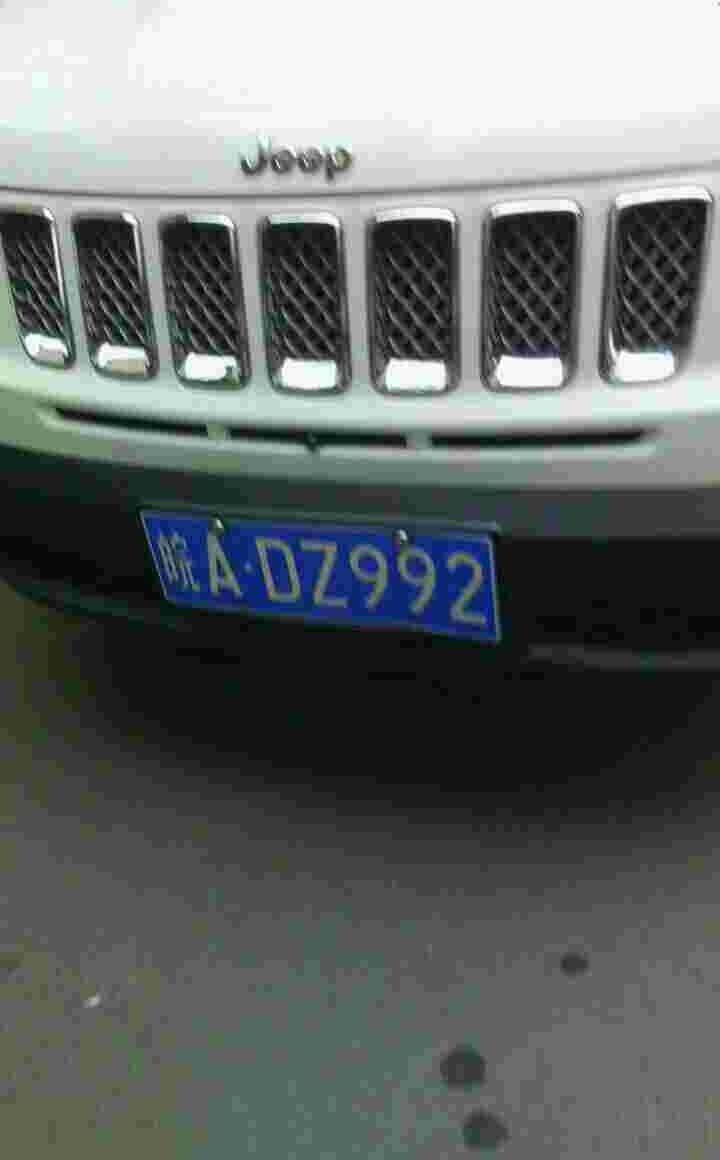license_plate: (140, 505, 494, 642)
